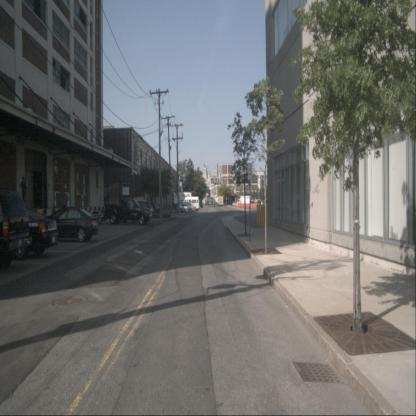human-pedestrian-adult: (19, 176, 28, 210)
movable_object-barrier: (244, 203, 250, 207), (234, 203, 239, 207), (240, 203, 245, 207), (254, 203, 259, 207), (250, 203, 254, 207)
vehicle-car: (0, 205, 58, 260), (0, 187, 33, 267), (39, 206, 99, 243), (124, 200, 153, 222), (181, 196, 199, 211), (178, 203, 195, 213)
vehicle-truck: (105, 197, 150, 225), (236, 195, 250, 207), (218, 196, 224, 206)
